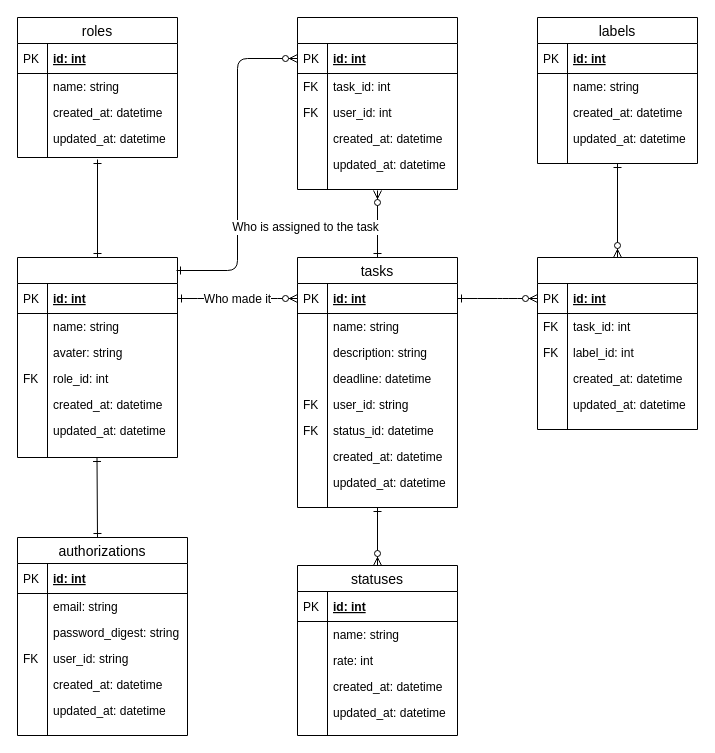
Some shapes in this 715 by 753 pixel diagram are drawn without their labels. The box of each missing label's shape, as (x1, y1, x2, y2) in pixels:
tasks_labels: (536, 256, 698, 430)
users: (16, 256, 178, 458)
users_tasks: (296, 16, 458, 190)
